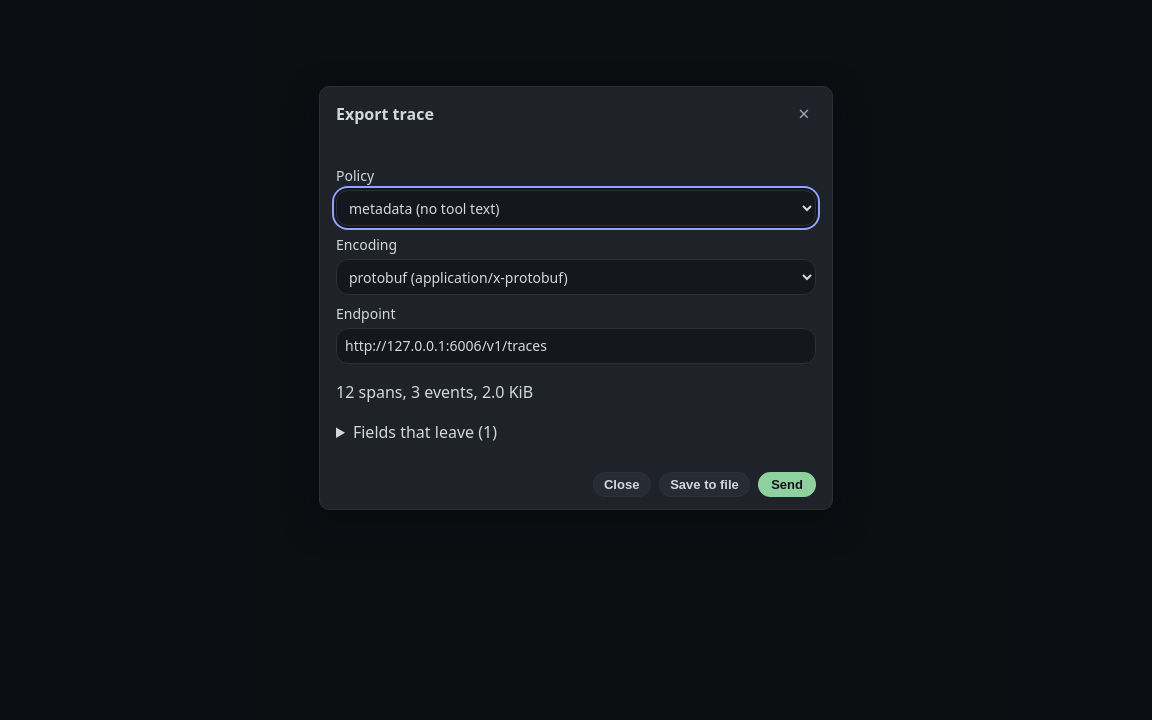
Test case: ExportDialog › sends the previewed digest and says what was sent
The image size is (1152, 720).
Expected: the text "12 spans, 3 events, 2.0 KiB" is shown, [336,381,533,403]
Click the button "Send". click: point(787, 484)
box: [758,472,816,497]
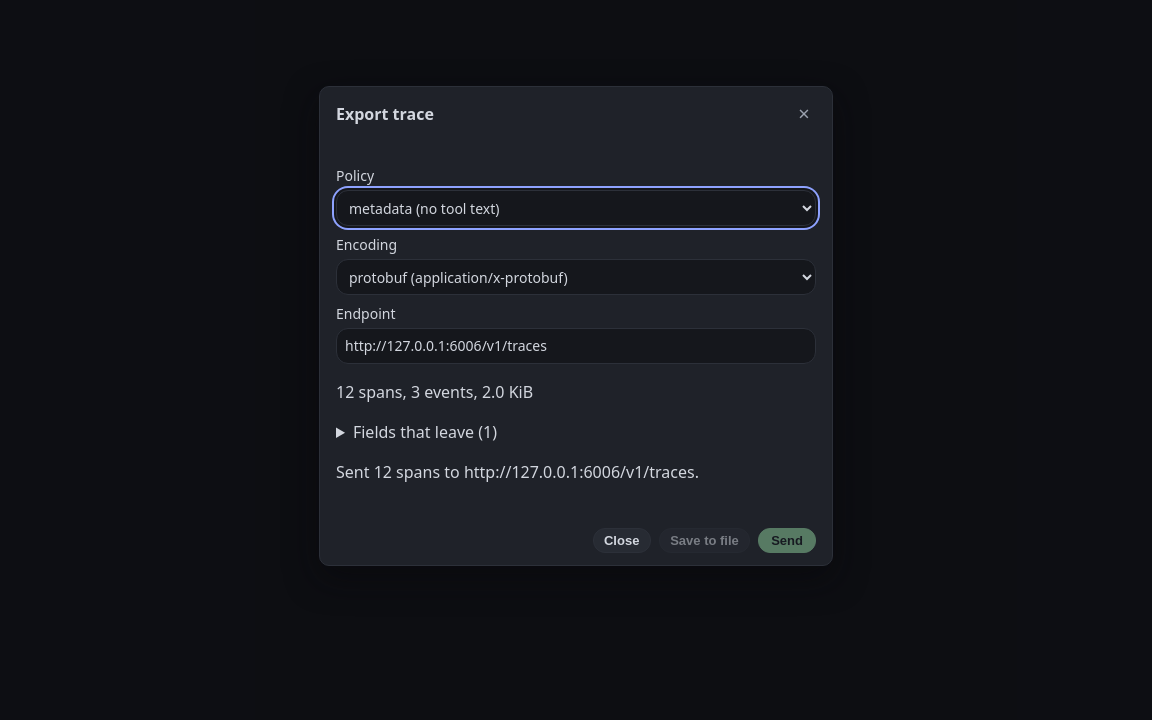
Result: the message with test id "export-outcome" reads "Sent 12 spans to http://127.0.0.1:6006/v1/traces." at [336,461,699,483]
